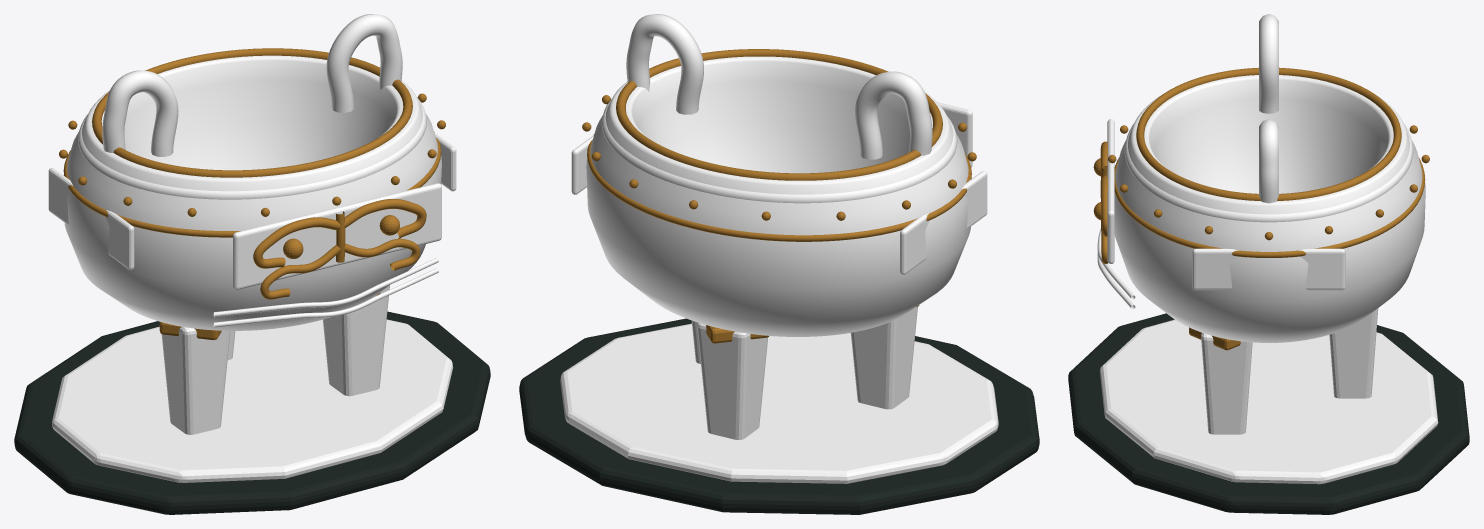
File: heluo-bronze-ding-v2.glb
The picture shows the model from 3 angles, left to right: view 1: azimuth 30°, elevation 25°; view 2: azimuth 150°, elevation 25°; view 3: azimuth 270°, elevation 25°; orthographic projection. The views are drawn at different scales.
Parts seen in each view (by area): view 1: Refined_Ding_Body, Pedestal_Upper, Pedestal_Lower, Front_Ritual_Relief_Panel, Ritual_Square_Leg_2, Upper_gold_band, Ritual_Square_Leg_3, Right_Ceremonial_Ear, Left_Ceremonial_Ear, Upper_dark_band, Side_Relief_Panel_-1, Lower_gold_band (+7 smaller); view 2: Refined_Ding_Body, Pedestal_Upper, Pedestal_Lower, Ritual_Square_Leg_1, Upper_gold_band, Ritual_Square_Leg_2, Right_Ceremonial_Ear, Left_Ceremonial_Ear, Upper_dark_band, Lower_gold_band, Side_Relief_Panel_-1, Front_Ritual_Relief_Panel (+1 smaller); view 3: Refined_Ding_Body, Pedestal_Upper, Pedestal_Lower, Upper_gold_band, Ritual_Square_Leg_3, Side_Relief_Panel_1, Ritual_Square_Leg_1, Upper_dark_band, Lower_gold_band, Left_Ceremonial_Ear, Right_Ceremonial_Ear, Front_Ritual_Relief_Panel.
Boxes of the visible parts, x1,y1,x2,y2 form: Refined_Ding_Body: (63, 55, 441, 330); Pedestal_Upper: (52, 319, 452, 482); Pedestal_Lower: (14, 311, 490, 514); Front_Ritual_Relief_Panel: (233, 183, 441, 289); Ritual_Square_Leg_2: (161, 326, 230, 434); Upper_gold_band: (92, 48, 412, 177); Ritual_Square_Leg_3: (323, 285, 389, 396); Right_Ceremonial_Ear: (326, 14, 402, 112); Left_Ceremonial_Ear: (102, 70, 178, 156); Upper_dark_band: (78, 97, 426, 199); Side_Relief_Panel_-1: (48, 168, 134, 269); Lower_gold_band: (63, 132, 441, 237); Refined_Ding_Body: (586, 56, 971, 336); Pedestal_Upper: (560, 323, 998, 483); Pedestal_Lower: (519, 318, 1039, 514); Ritual_Square_Leg_1: (697, 322, 768, 439); Upper_gold_band: (616, 49, 942, 180); Ritual_Square_Leg_2: (850, 306, 917, 409); Right_Ceremonial_Ear: (626, 14, 703, 114); Left_Ceremonial_Ear: (855, 71, 932, 159); Upper_dark_band: (601, 99, 957, 203); Lower_gold_band: (587, 134, 971, 241); Side_Relief_Panel_-1: (900, 171, 987, 274); Front_Ritual_Relief_Panel: (937, 102, 972, 167); Refined_Ding_Body: (1114, 75, 1425, 342); Pedestal_Upper: (1099, 319, 1438, 484); Pedestal_Lower: (1068, 313, 1469, 514); Upper_gold_band: (1136, 67, 1401, 200); Ritual_Square_Leg_3: (1201, 332, 1252, 434); Side_Relief_Panel_1: (1192, 248, 1345, 290); Ritual_Square_Leg_1: (1329, 308, 1378, 398); Upper_dark_band: (1124, 124, 1413, 222); Lower_gold_band: (1114, 158, 1425, 257); Left_Ceremonial_Ear: (1259, 14, 1278, 113); Right_Ceremonial_Ear: (1259, 119, 1278, 203); Front_Ritual_Relief_Panel: (1107, 119, 1114, 263).
Bounding box in the file's own units: 3.57 × 2.88 × 3.02.
